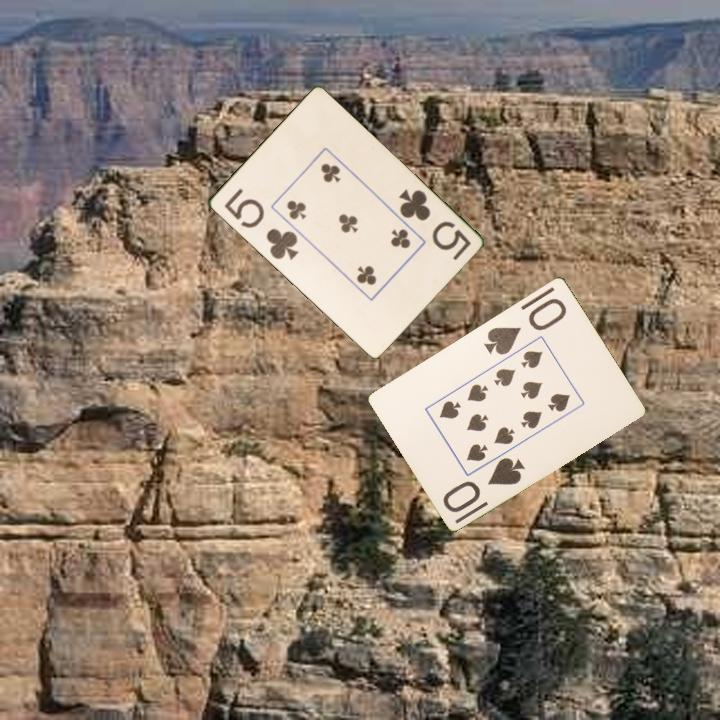10s: (480, 294, 570, 358), (439, 453, 528, 515)
5c: (220, 185, 302, 263), (395, 185, 474, 263)
